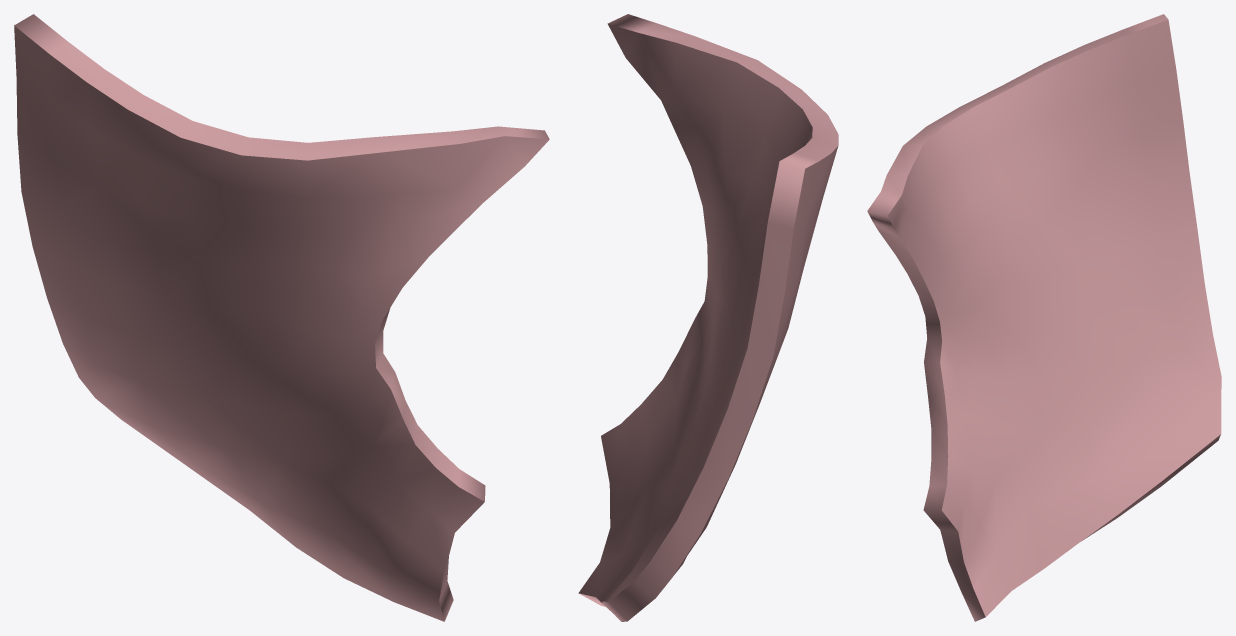
The picture shows the model from 3 angles, left to right: view 1: azimuth 30°, elevation 25°; view 2: azimuth 150°, elevation 25°; view 3: azimuth 270°, elevation 25°; orthographic projection. The views are drawn at different scales.
Parts seen in each view (by area): view 1: ZA_edb60285f5377f84; view 2: ZA_edb60285f5377f84; view 3: ZA_edb60285f5377f84.
Boxes of the visible parts, box(x1,y1,x2,y2) form: ZA_edb60285f5377f84: box(14, 14, 549, 621); ZA_edb60285f5377f84: box(578, 14, 838, 621); ZA_edb60285f5377f84: box(867, 14, 1221, 621).
Size of the model in its own units: 0.047 by 0.0735 by 0.0486.
